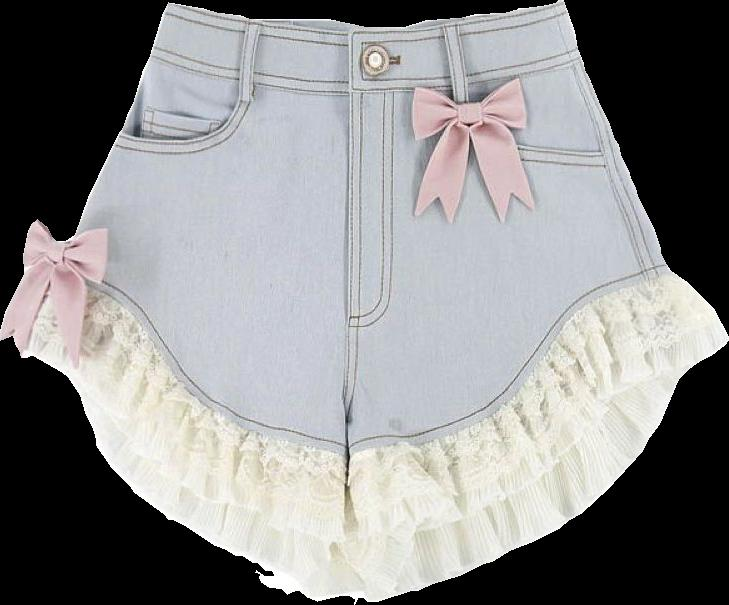Hemline: (351, 334, 728, 601), (3, 332, 354, 596)
Pantleg: (346, 0, 728, 602), (0, 2, 350, 600)
Waistline: (344, 263, 666, 449), (59, 255, 349, 449), (148, 53, 584, 95), (164, 0, 564, 31)
